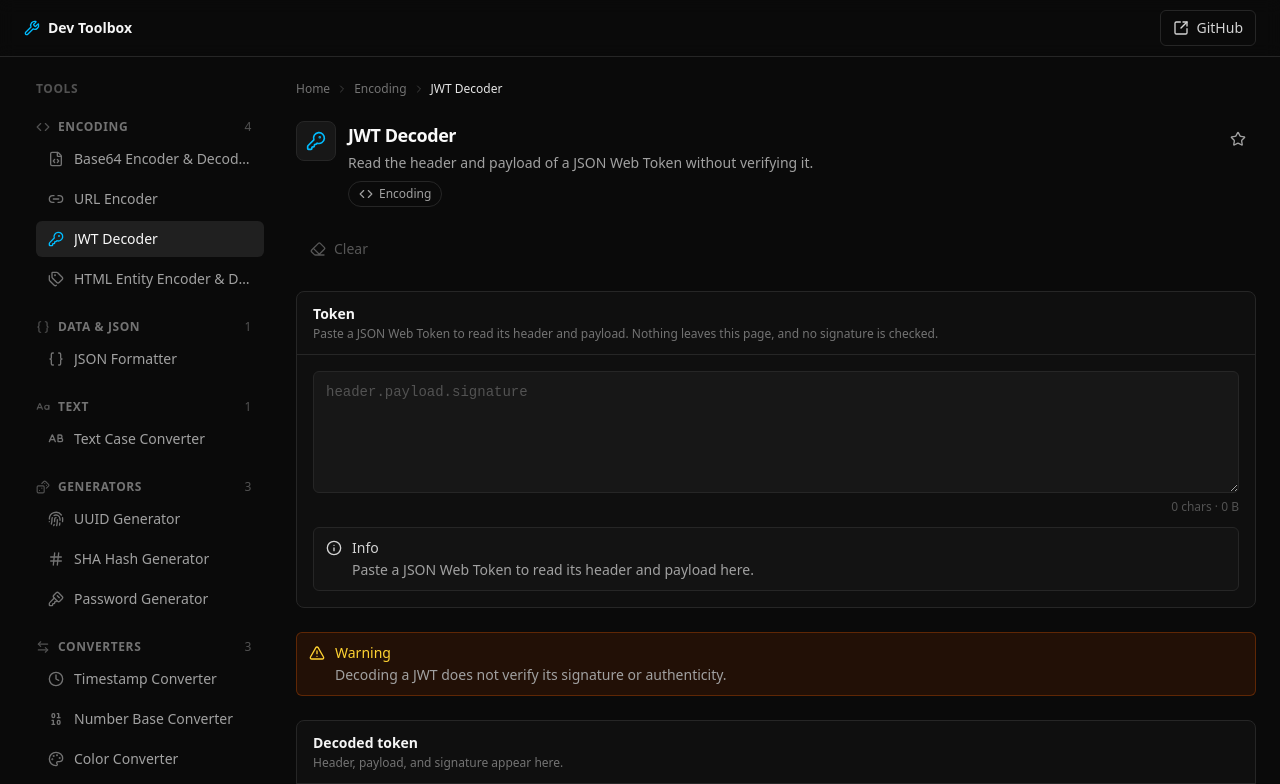
Test: JWT Decoder › reports a token without three segments
Expected: the heading "JWT Decoder" is shown, [348,123,456,147]
Type "abc" into the text box named "JSON Web Token". click: (776, 432)
box: [313,371,1239,493]
(page scrolled)
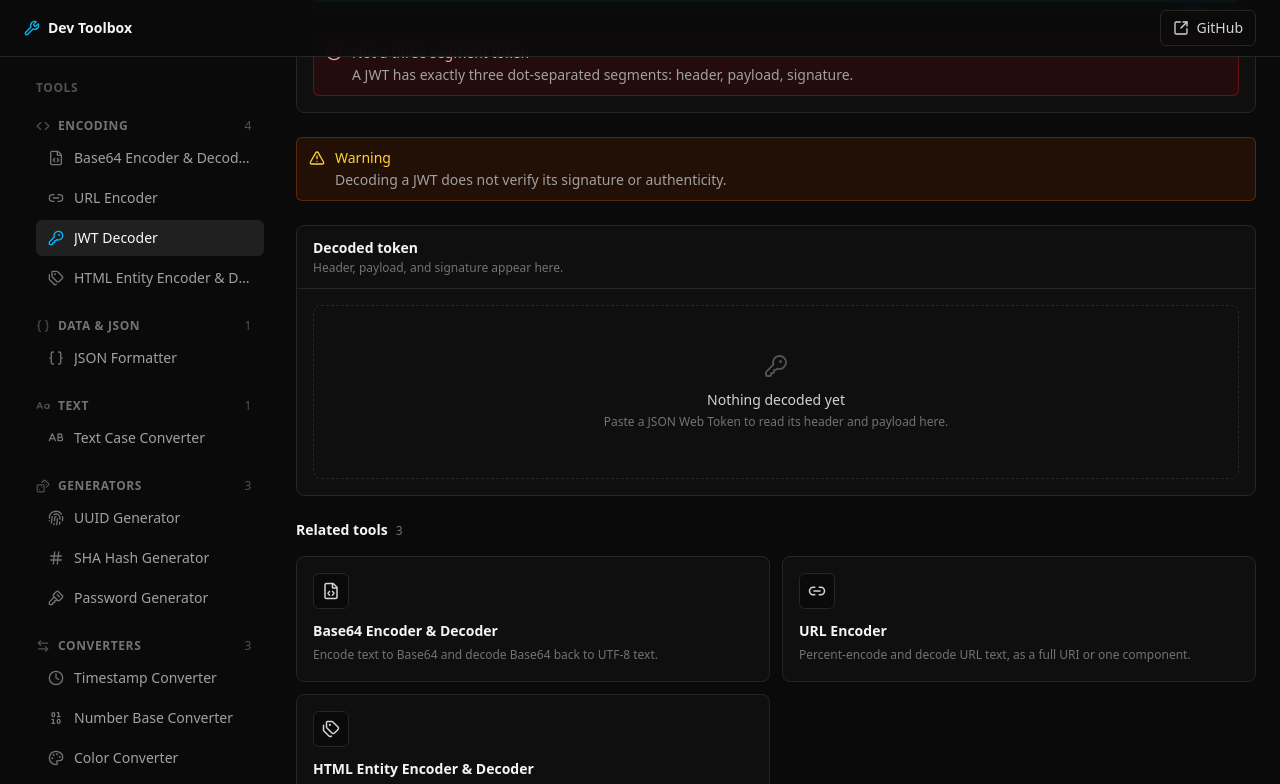
Expected: the heading "Nothing decoded yet" is shown, [707,390,845,409]
Now the text "Not a three segment token" is shown, box [352,43,529,62]
